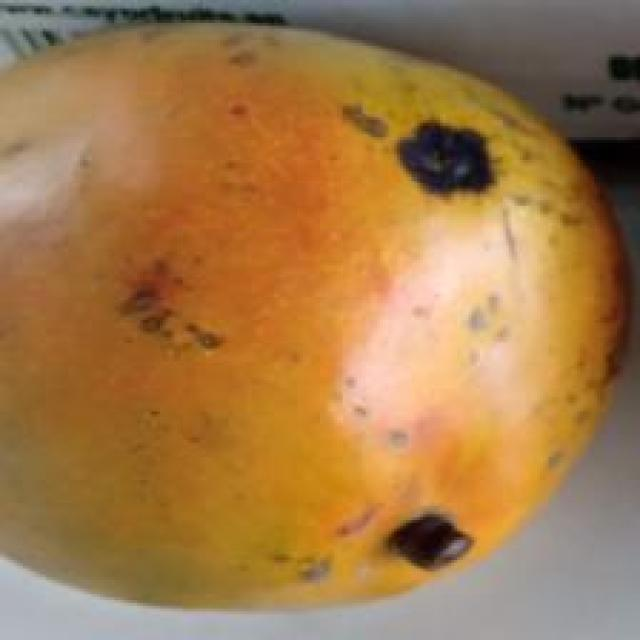Mango: (0, 21, 638, 608)
